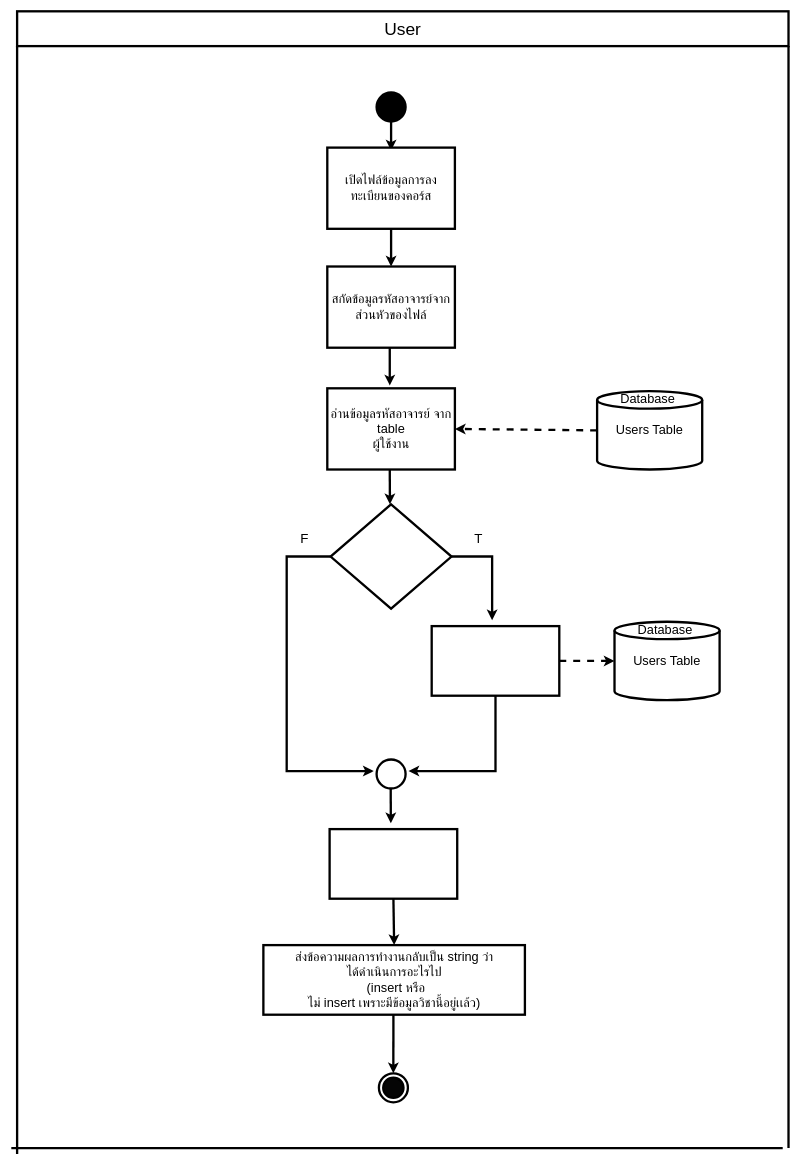
Image size: 800x1165. Some labels were removed from this diagram. Here are the shapes that lost their labels. From the top down, the centre of each, then its label:
At point 390,556: "ไม่มีรหัส อาจารย์ ในฐานข้อมูล".
At point 495,661: "insert ข้อมูลอาจารย์เข้าฐานข้อมูล".
At point 393,864: "บันทึก activity ที่ทำเข้า log file".
